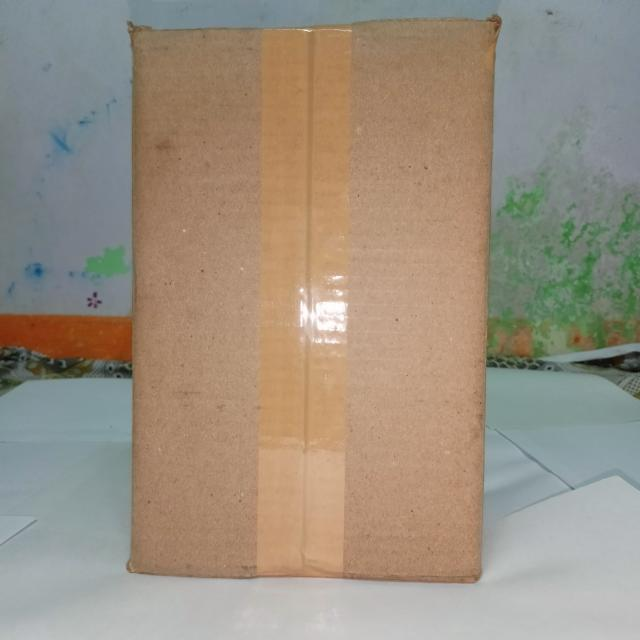box: (126, 17, 503, 587)
